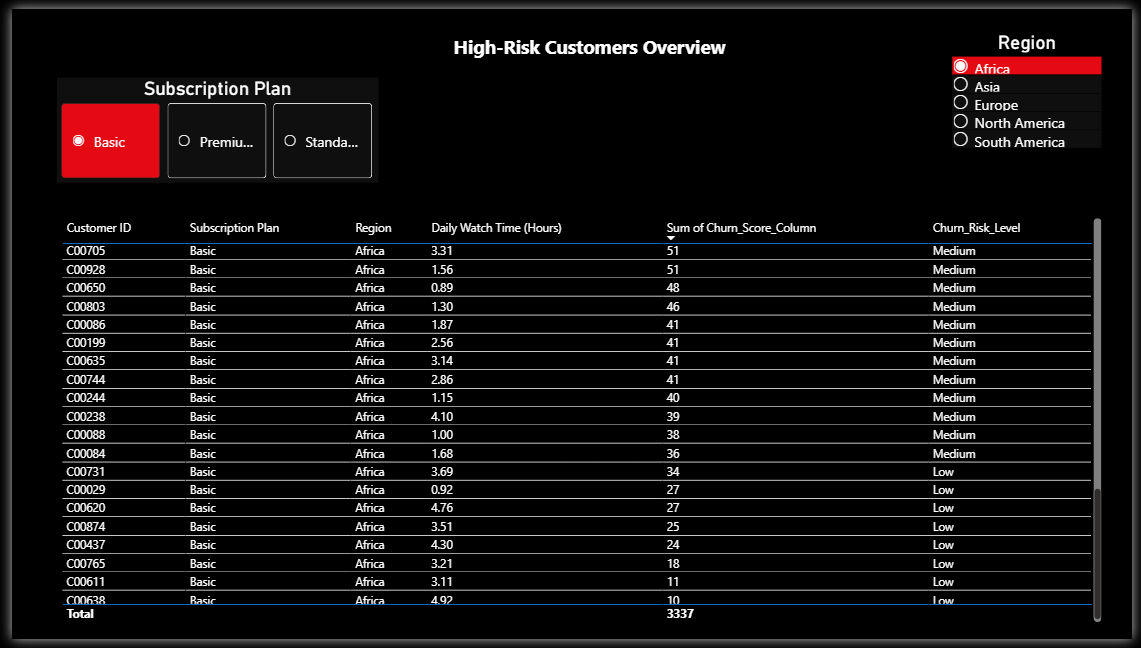

The dashboard page shown, as its layout file describes it:
{"tool":"powerbi","page":{"name":"High-Risk Customers","canvas":[1280,720],"ordinal":2},"visuals":[{"type":"tableEx","fields":{"Values":["Sheet1.Customer ID","Sheet1.Subscription Plan","Sheet1.Region","Sheet1.Daily Watch Time (Hours)","Sum(Sheet1.Churn_Score_Column)","Sheet1.Churn_Risk_Level"]},"box":[51.4,234.3,1198.6,471.4],"z":0},{"type":"advancedSlicerVisual","fields":{"Values":["Sheet1.Subscription Plan"]},"box":[51.4,78.6,367.1,120],"z":1000},{"type":"listSlicer","fields":{"Values":["Sheet1.Region"]},"box":[1070,25.7,180,208.6],"z":2000},{"type":"textbox","box":[471.4,22.9,377.1,55.7],"z":2001}]}

Visuals, with their boxes in screenshot pixels (x1, y1, x2, y2), scaled from the page's 1280x720 canvas onto the 1141x648 screenshot:
tableEx - Sheet1.Customer ID x Sheet1.Subscription Plan: {"x1": 46, "y1": 211, "x2": 1114, "y2": 635}
advancedSlicerVisual - Sheet1.Subscription Plan: {"x1": 46, "y1": 71, "x2": 373, "y2": 179}
listSlicer - Sheet1.Region: {"x1": 954, "y1": 23, "x2": 1114, "y2": 211}
textbox: {"x1": 420, "y1": 21, "x2": 756, "y2": 71}
